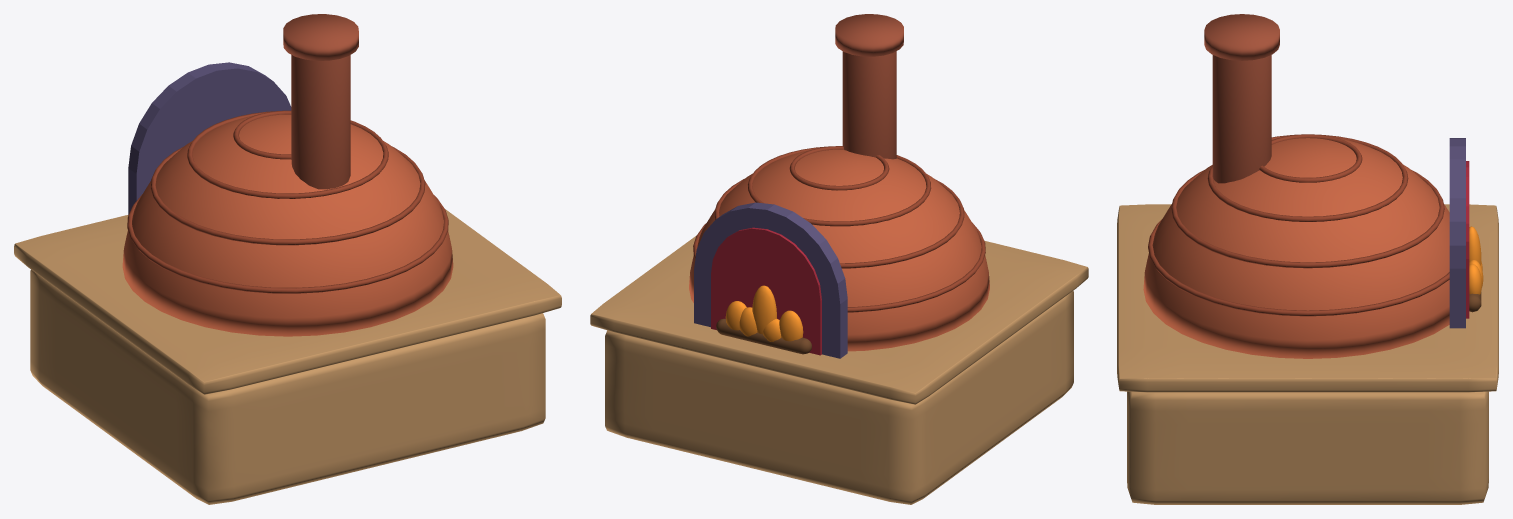
File: EatsaPizzaOven.obj
The picture shows the model from 3 angles, left to right: view 1: azimuth 30°, elevation 25°; view 2: azimuth 150°, elevation 25°; view 3: azimuth 270°, elevation 25°; orthographic projection. The views are drawn at different scales.
Visible parts, largest first — view 1: Base, Dome, Chimney, Rim, Bricks; view 2: Base, Dome, Mouth, Chimney, Rim, Bricks, Fire, Logs; view 3: Base, Dome, Chimney, Bricks, Rim, Fire, Mouth.
Boxes of the visible parts, x1,y1,x2,y2 form: Base: [14, 209, 561, 504]; Dome: [122, 114, 453, 336]; Chimney: [283, 14, 358, 189]; Rim: [128, 62, 291, 215]; Bricks: [127, 110, 448, 293]; Base: [590, 235, 1088, 504]; Dome: [689, 149, 989, 351]; Mouth: [711, 227, 821, 355]; Chimney: [835, 14, 903, 159]; Rim: [694, 202, 847, 358]; Bricks: [693, 146, 985, 312]; Fire: [725, 285, 803, 341]; Logs: [716, 318, 811, 354]; Base: [1117, 204, 1498, 504]; Dome: [1143, 138, 1449, 358]; Chimney: [1204, 14, 1279, 183]; Bricks: [1148, 134, 1449, 316]; Rim: [1449, 138, 1465, 328]; Fire: [1469, 226, 1483, 294]; Mouth: [1466, 161, 1469, 318].
Size of the model in its own units: 12.6 by 13.3 by 11.6.
